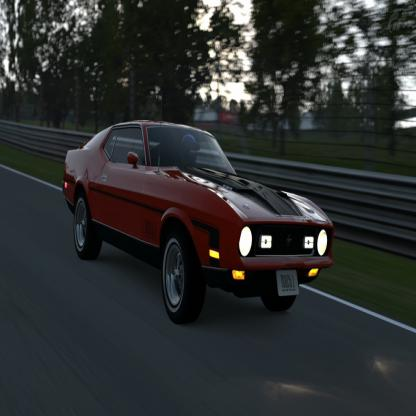Car: (62, 91, 334, 324)
